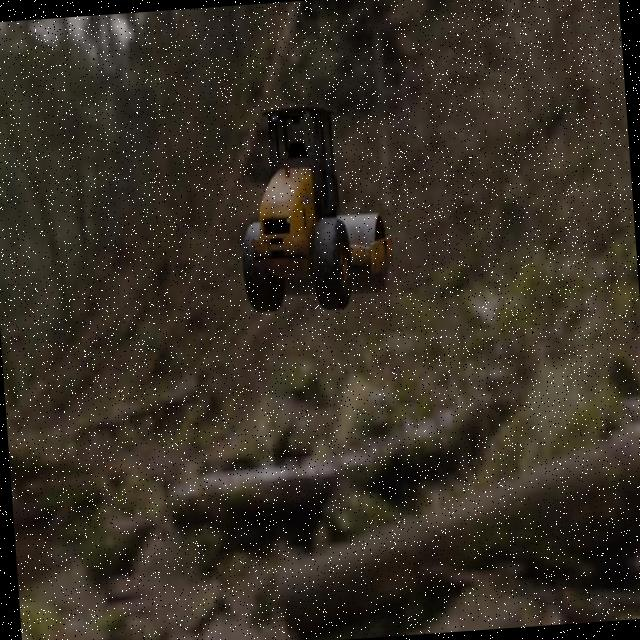Roller: (230, 98, 396, 316)
